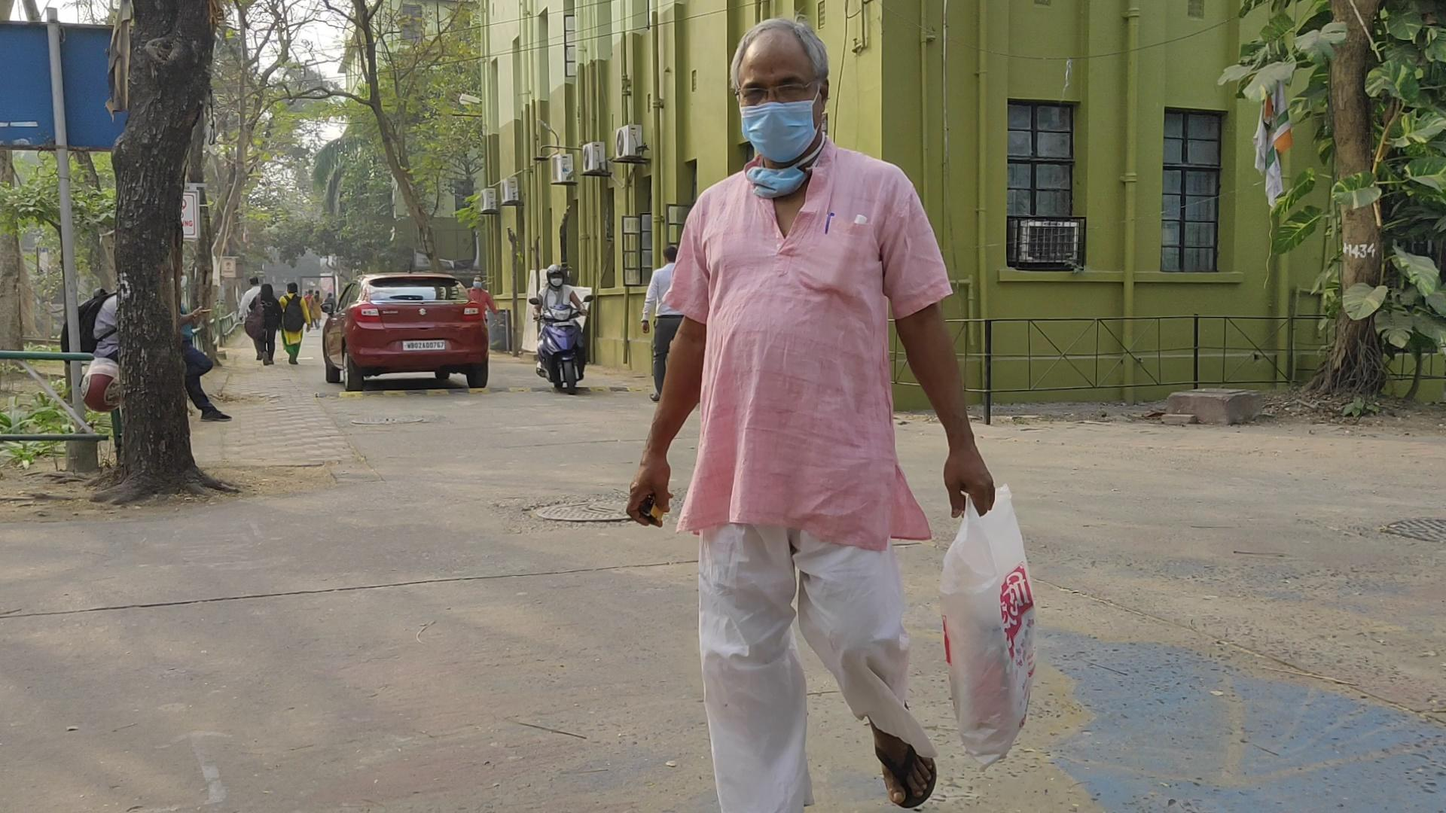bike: (529, 265, 591, 393)
car: (322, 271, 489, 389)
